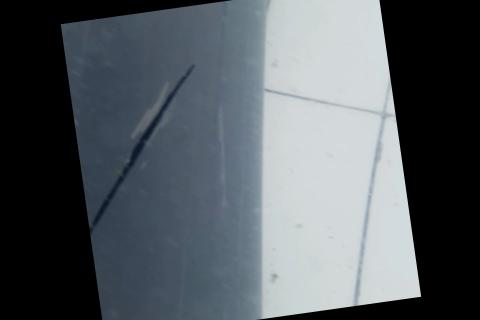keretakan: (67, 60, 223, 248)
